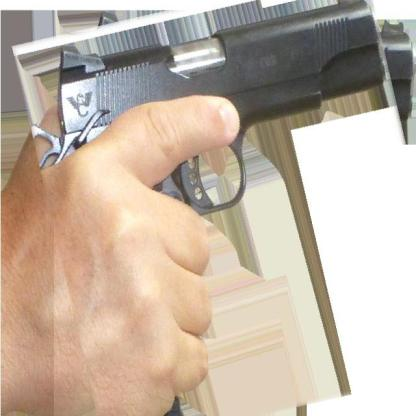handgun: (32, 0, 416, 216)
